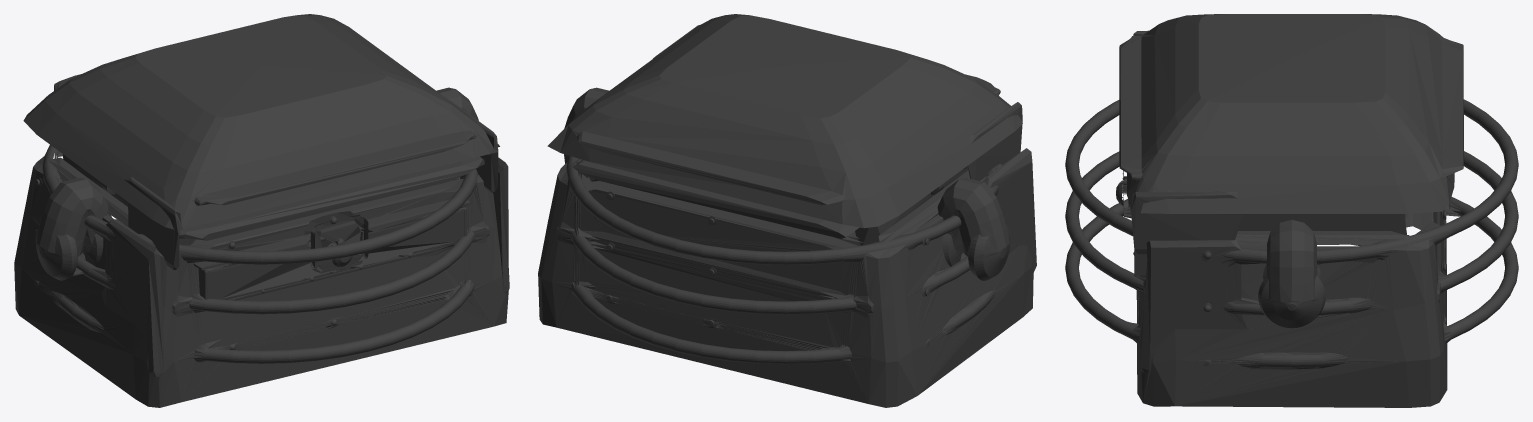
File: tmp_baseline_chest.glb
3 renders of one model, left to right at view 1: azimuth 30°, elevation 25°; view 2: azimuth 150°, elevation 25°; view 3: azimuth 270°, elevation 25°, orthographic. The views are drawn at different scales.
Parts seen in each view (by area): view 1: body, lid_panel, front_hatch, handle_l, lock_plate, handle_r; view 2: body, lid_panel, handle_l, handle_r; view 3: lid_panel, body, handle_r.
Part boxes in pixels (x1,y1,x2,y2): body: (14,145,509,407); lid_panel: (23,14,499,270); front_hatch: (196,202,470,300); handle_l: (35,167,137,291); lock_plate: (217,193,438,273); handle_r: (436,87,478,179); body: (538,148,1036,407); lid_panel: (547,14,1022,245); handle_l: (899,177,1010,280); handle_r: (564,87,608,178); lid_panel: (1119,14,1463,254); body: (1065,99,1518,407); handle_r: (1236,220,1377,329).
Bounding box in the file's own units: 80.55 × 44.99 × 68.7.
1 material, 1 textured.
